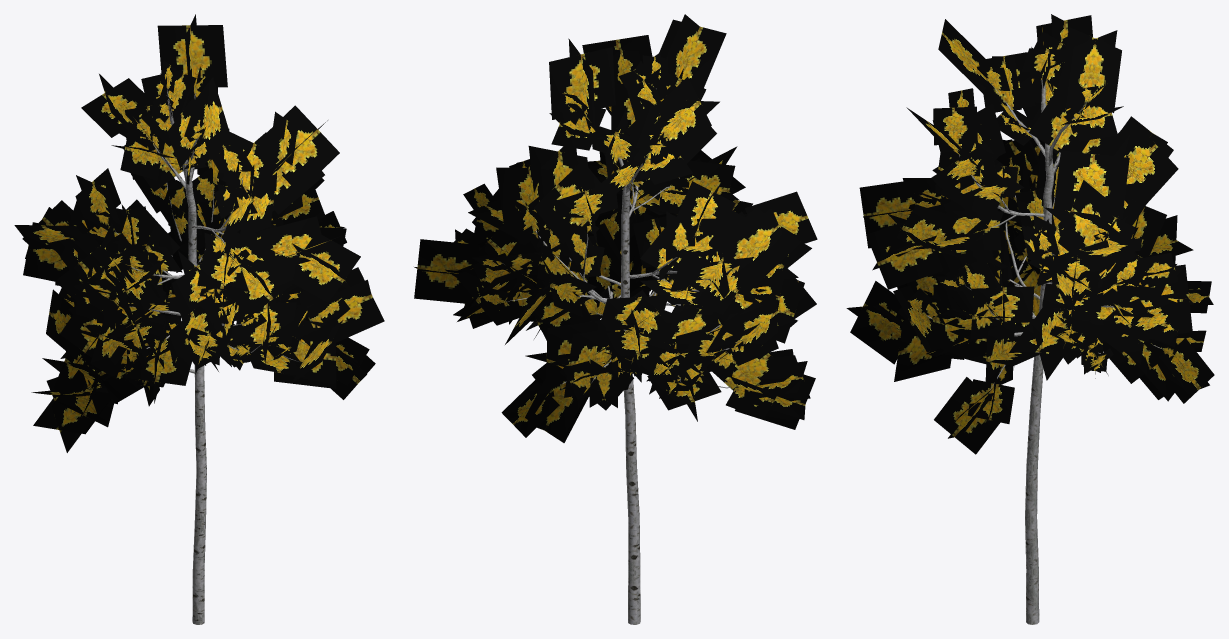
Rendered from aspen.glb.
3 views of the same model, side by side, from view 1: azimuth 30°, elevation 25°; view 2: azimuth 150°, elevation 25°; view 3: azimuth 270°, elevation 25° (orthographic). The views are drawn at different scales.
Visible parts, largest first — view 1: aspen; view 2: aspen; view 3: aspen.
Part boxes in pixels (box(x1,y1,x2,y2)): aspen: box(14, 14, 384, 624); aspen: box(414, 14, 817, 624); aspen: box(846, 14, 1214, 624).
Size of the model in its own units: 6.57 by 11 by 6.14.
2 materials, 2 textured.
